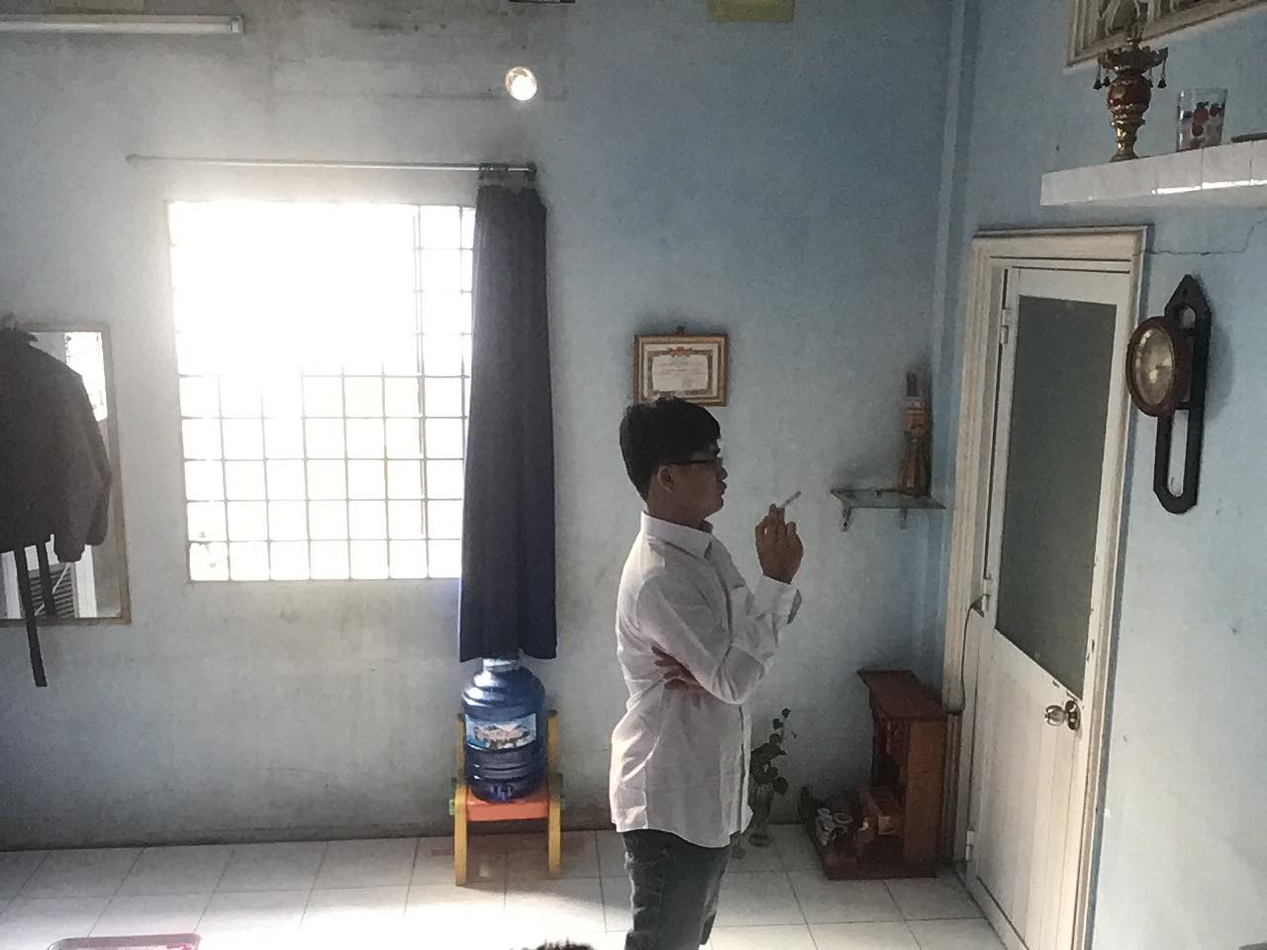cigarette: (778, 489, 804, 511)
person: (565, 380, 823, 950)
